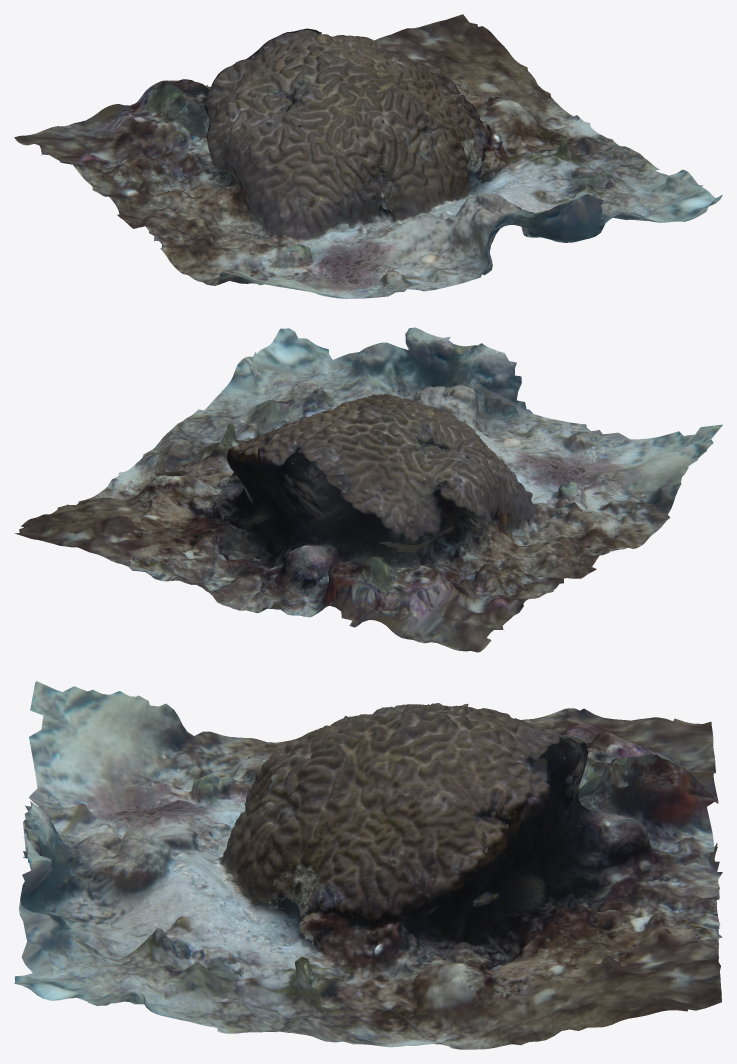
The model's file is braincoral.glb.
3 views of the same model, one above another, from view 1: azimuth 30°, elevation 25°; view 2: azimuth 150°, elevation 25°; view 3: azimuth 270°, elevation 25° (orthographic). The views are drawn at different scales.
Visible parts, largest first — view 1: Object_2, Object_3; view 2: Object_2, Object_3; view 3: Object_2, Object_3.
Boxes of the visible parts, box(x1,y1,x2,y2) form: Object_2: box(14, 14, 722, 298); Object_3: box(103, 40, 590, 230); Object_2: box(14, 327, 722, 652); Object_3: box(109, 396, 591, 588); Object_2: box(14, 681, 722, 1049); Object_3: box(340, 703, 530, 1045).
Bounding box in the file's own units: 7.59 × 2.08 × 7.53.
Materials: 1 (1 with a texture image).
